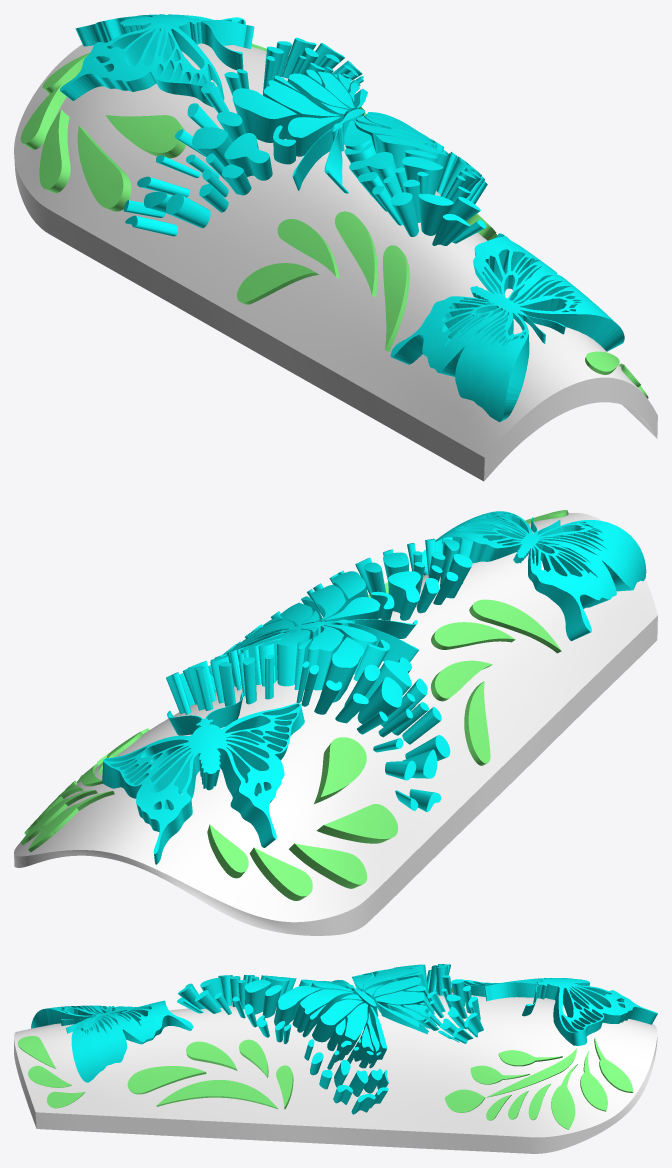
The model's file is butterfly-cove-web.glb.
3 renders of one model, top to bottom at view 1: azimuth 30°, elevation 25°; view 2: azimuth 150°, elevation 25°; view 3: azimuth 270°, elevation 25°, orthographic. The views are drawn at different scales.
Size of the model in its own units: 0.0138 by 0.00747 by 0.035.
